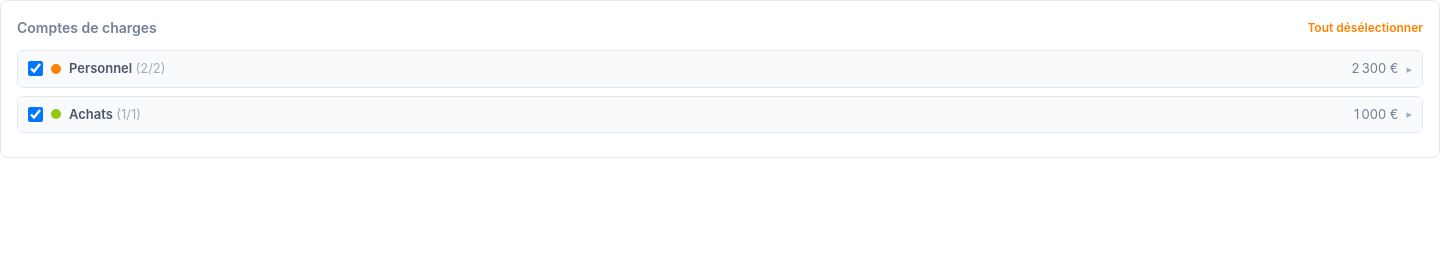
ChargesAccountSelector › déplie un groupe au clic sur son en-tête
What coordinates should you click on to do the following:
click the button "Personnel (2/2) 2 300 € ▸"
I would click on:
 (101, 68)
Its box is [51,59,1412,78].
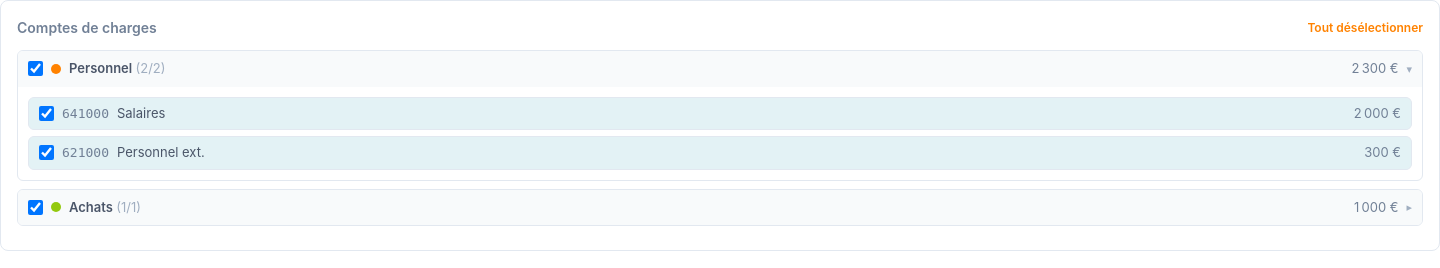
Expected: the text "641000" is shown, [62,104,109,123]
